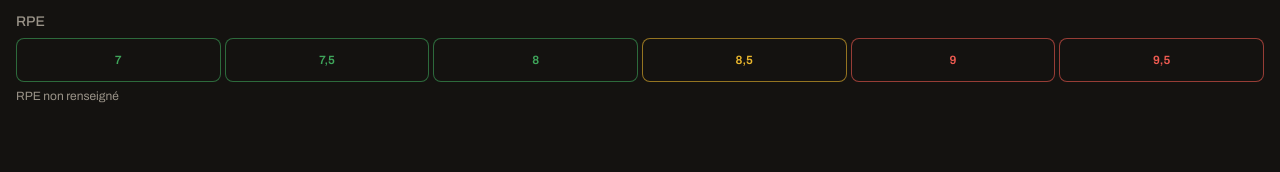
it: RpeChips › décrit le sens du RPE sans dépendre de la couleur
Click the button named "RPE 8,5 — maintien": x=744, y=60 [642,38,847,82]
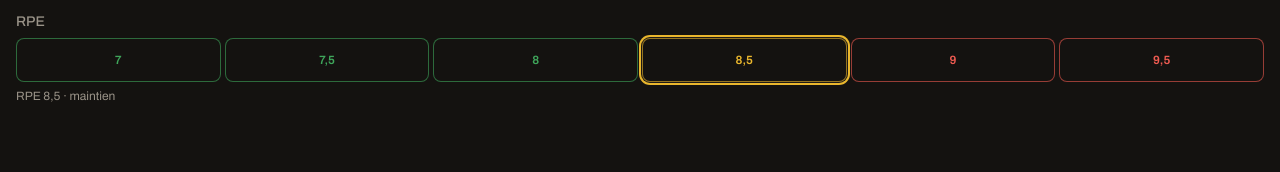
Check: the text "RPE 8,5 · maintien" is shown, box [16,89,115,103]
